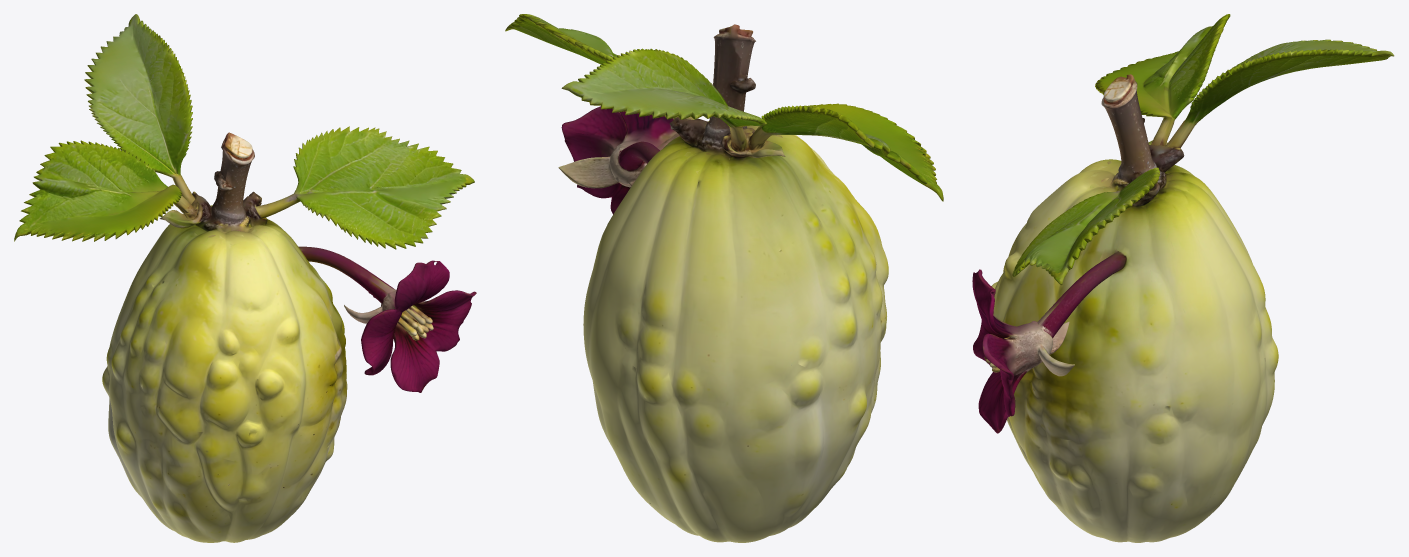
The model's file is mugua.glb.
3 views of the same model, side by side, from view 1: azimuth 30°, elevation 25°; view 2: azimuth 150°, elevation 25°; view 3: azimuth 270°, elevation 25° (orthographic). The views are drawn at different scales.
Visible parts, largest first — view 1: node_0; view 2: node_0; view 3: node_0.
Boxes of the visible parts, x1,y1,x2,y2 form: node_0: [14, 14, 476, 542]; node_0: [505, 14, 943, 542]; node_0: [972, 14, 1394, 542].
Size of the model in its own units: 0.946 by 0.9496 by 0.7465.
Materials: 1 (1 with a texture image).
